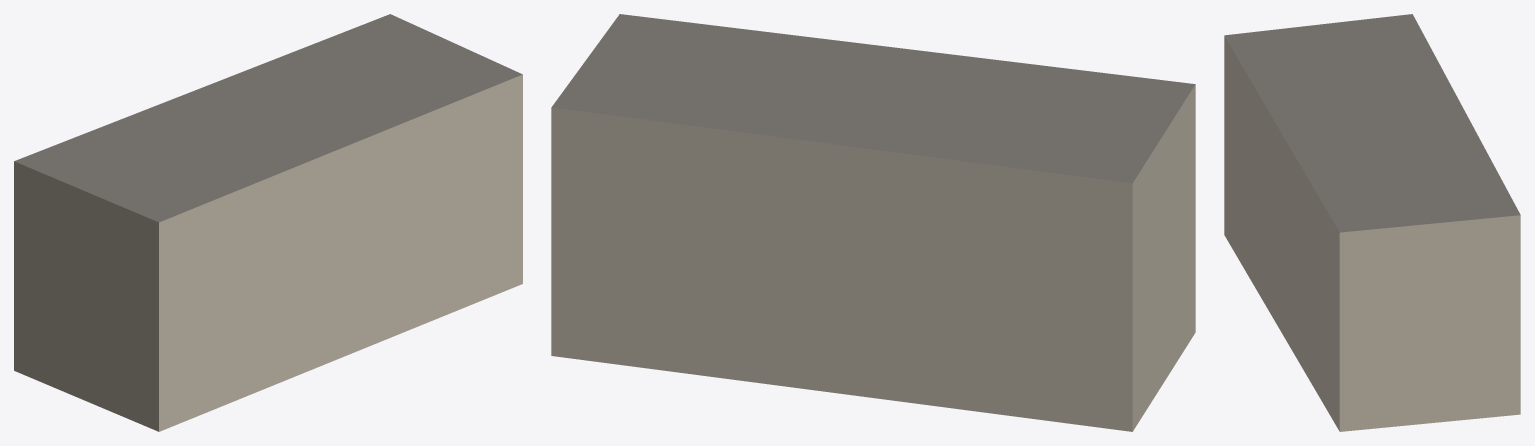
3 views of the same model, side by side, from view 1: azimuth 30°, elevation 25°; view 2: azimuth 150°, elevation 25°; view 3: azimuth 270°, elevation 25° (orthographic). The views are drawn at different scales.
Parts seen in each view (by area): view 1: HP-w505664425; view 2: HP-w505664425; view 3: HP-w505664425.
Part boxes in pixels (x1,y1,x2,y2): HP-w505664425: (14,14,522,431); HP-w505664425: (551,14,1195,431); HP-w505664425: (1224,14,1520,431).
Size of the model in its own units: 35.26 by 15 by 20.22.
